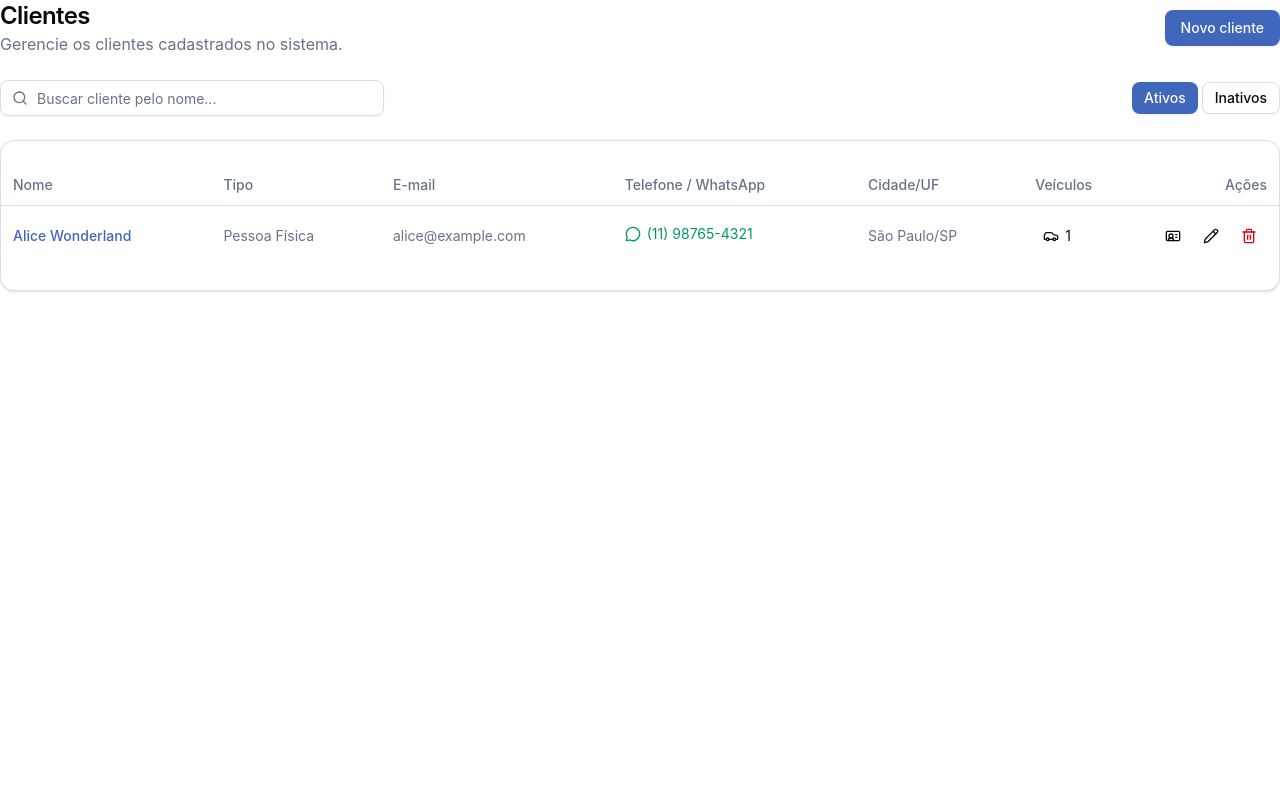
Test: CustomersPage › opens the vehicle directly when the customer has exactly one vehicle
The image size is (1280, 800).
Click the button named "1 veículo(s) vinculados" at [1057, 236], box [1035,222,1079,250]
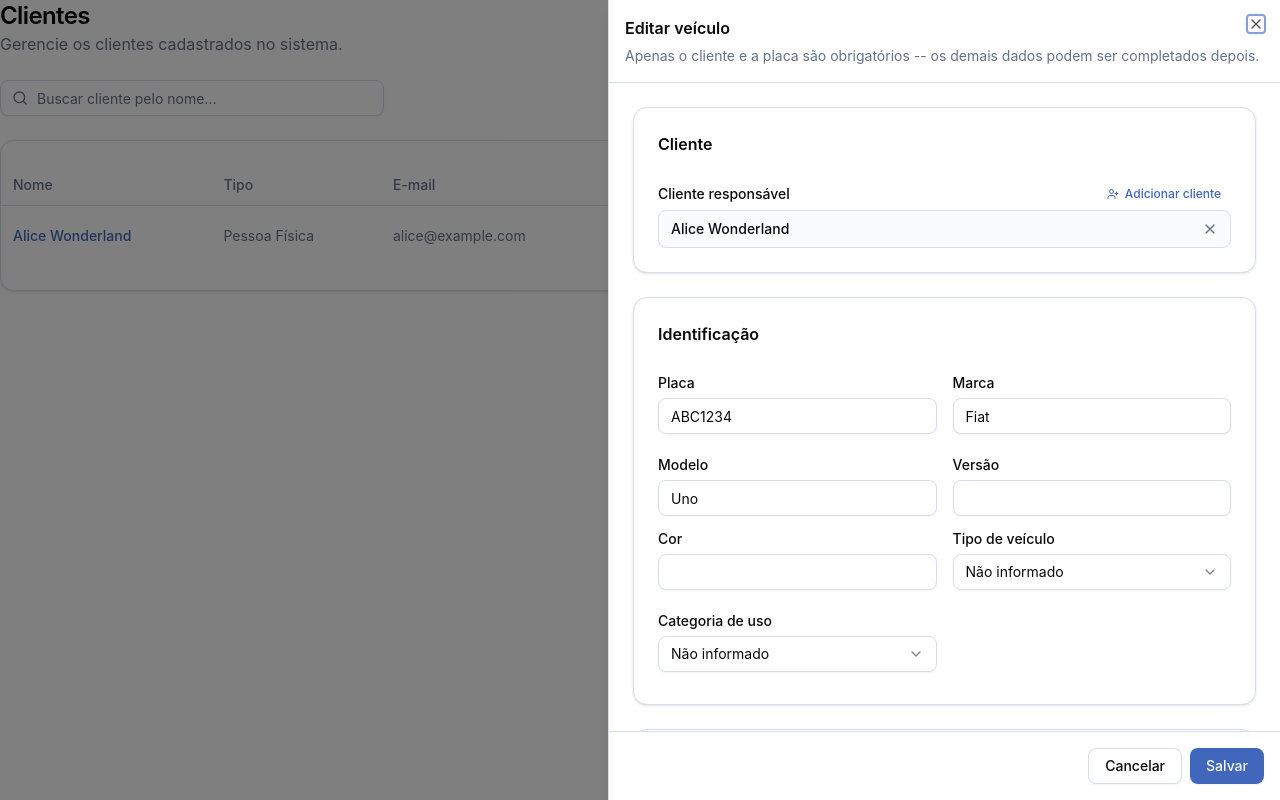
Expected: the heading "Editar veículo" is shown, [625,18,730,38]
Expected: the field showing "ABC1234" is shown, [658,398,936,434]
